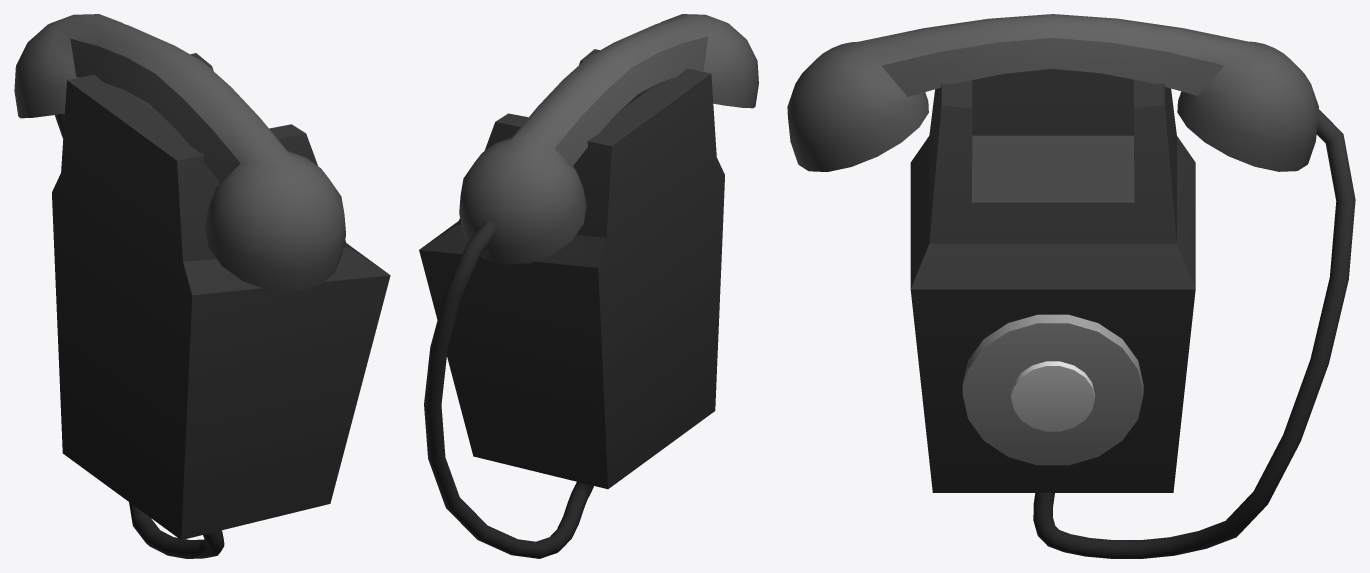
Rendered from DoubleCooked_Phone.fbx.
3 views of the same model, side by side, from view 1: azimuth 30°, elevation 25°; view 2: azimuth 150°, elevation 25°; view 3: azimuth 270°, elevation 25° (orthographic). The views are drawn at different scales.
Visible parts, largest first — view 1: DoubleCooked_Phone; view 2: DoubleCooked_Phone; view 3: DoubleCooked_Phone.
Boxes of the visible parts, left/top/right/bottom form: DoubleCooked_Phone: left=14, top=14, right=390, bottom=558; DoubleCooked_Phone: left=419, top=14, right=758, bottom=558; DoubleCooked_Phone: left=787, top=14, right=1355, bottom=558.
Bounding box in the file's own units: 14.71 × 35.85 × 34.66.
Materials: 1 (1 with a texture image).
